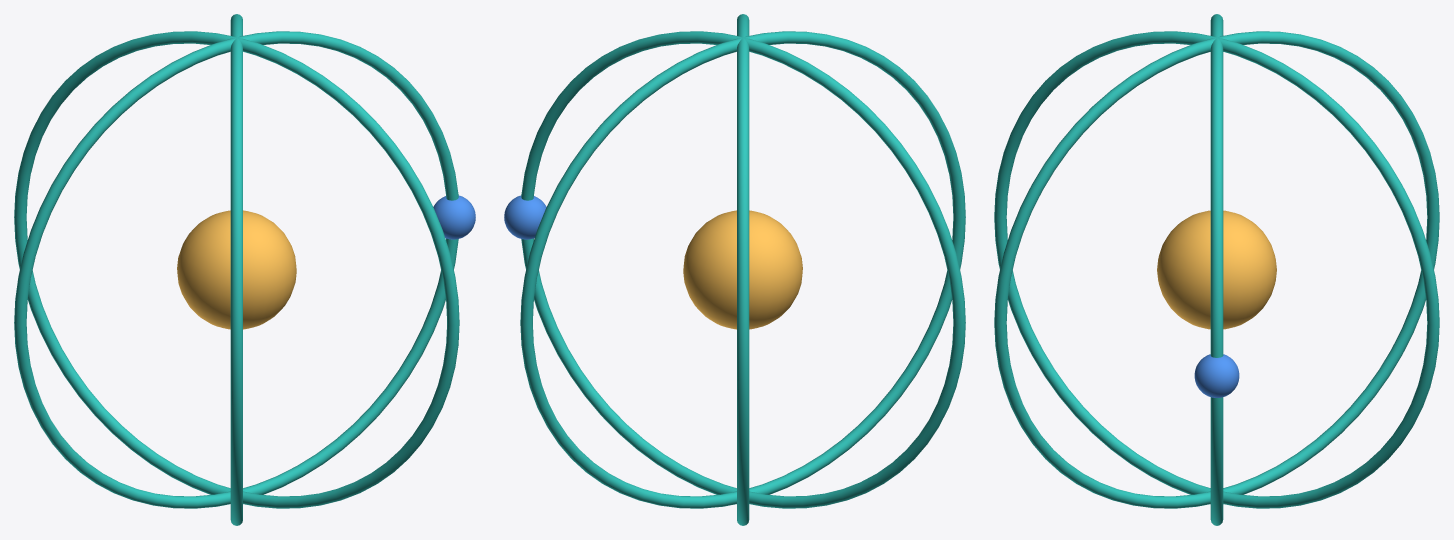
File: bohr-atom-quality.glb
3 renders of one model, left to right at view 1: azimuth 30°, elevation 25°; view 2: azimuth 150°, elevation 25°; view 3: azimuth 270°, elevation 25°, orthographic.
Visible parts, largest first — view 1: Nucleus; view 2: Nucleus; view 3: Nucleus.
Part boxes in pixels (x1,y1,x2,y2): Nucleus: [14, 14, 475, 525]; Nucleus: [504, 14, 965, 525]; Nucleus: [994, 14, 1439, 525].
Bounding box in the file's own units: 2.12 × 2.05 × 1.78.
